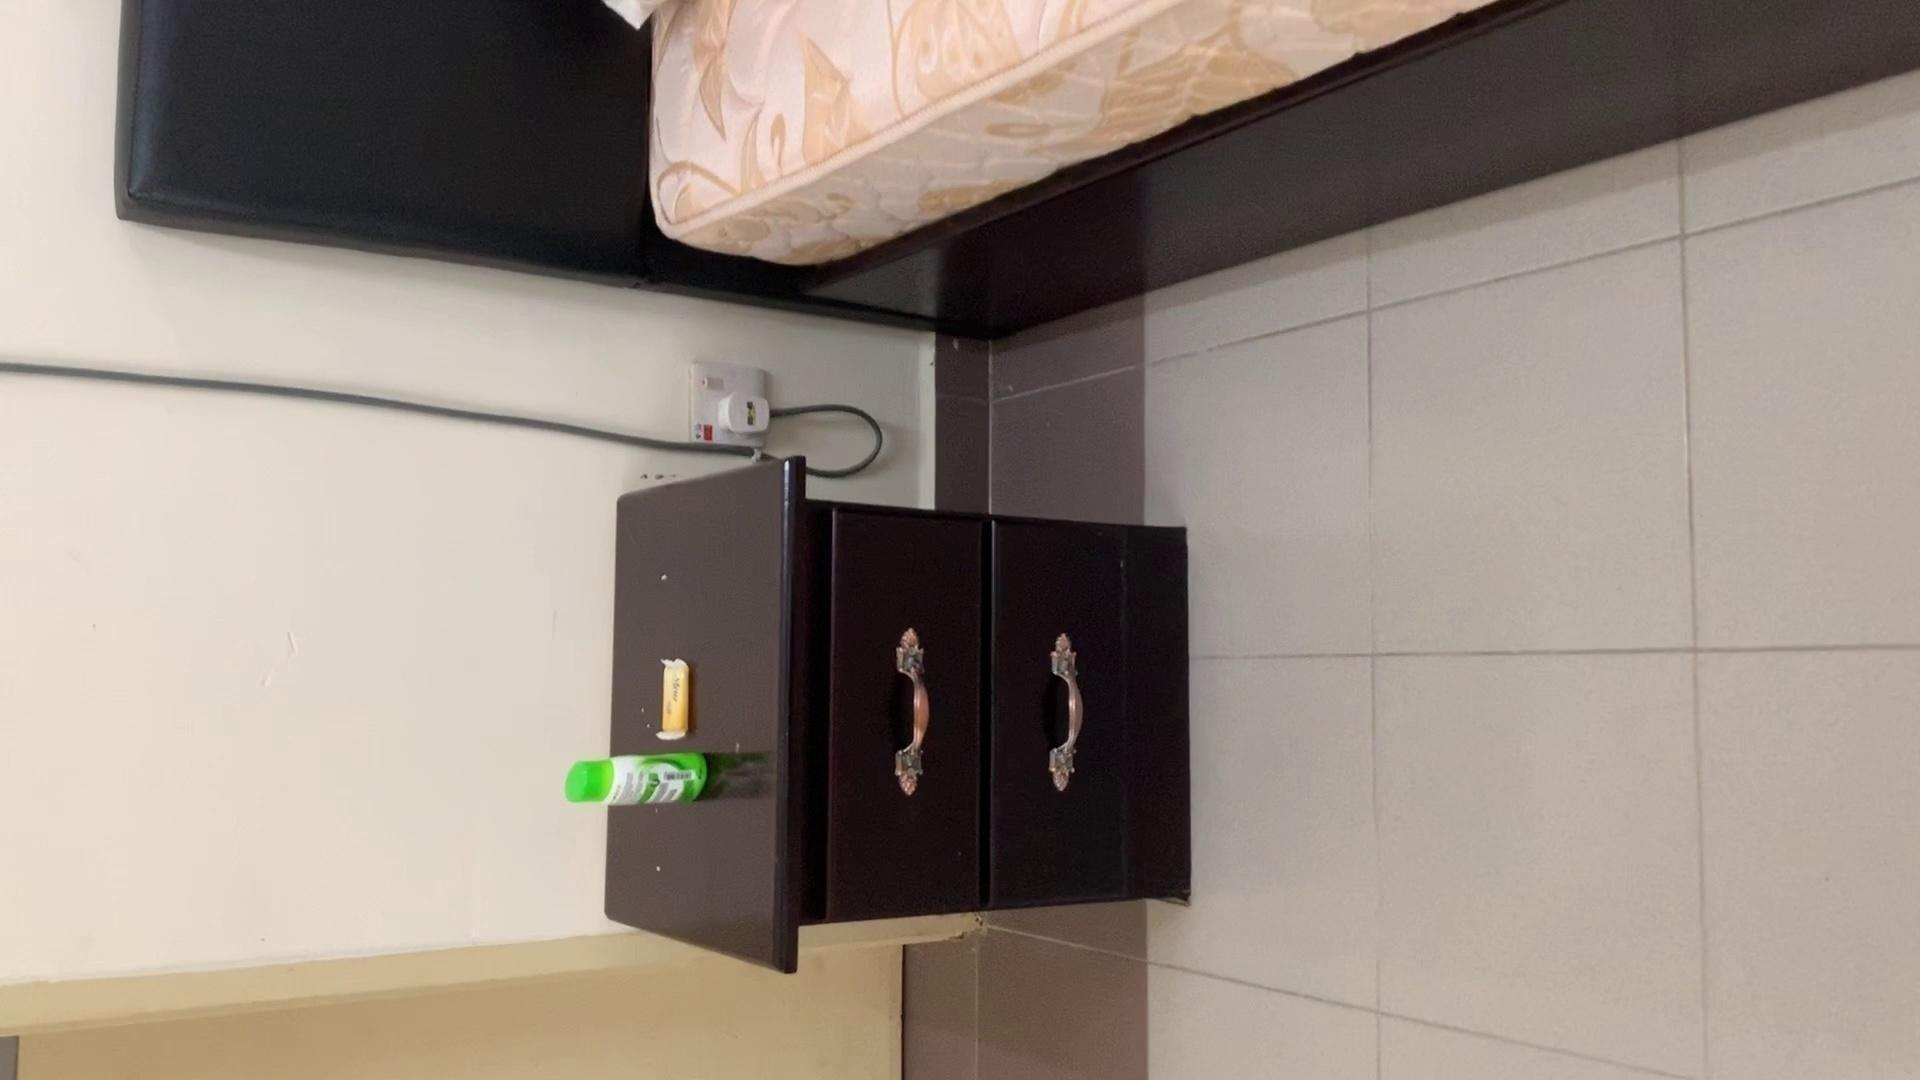cabinet_door: (837, 518, 992, 911), (993, 529, 1146, 905)
handle: (1035, 628, 1091, 795), (887, 628, 939, 806)
